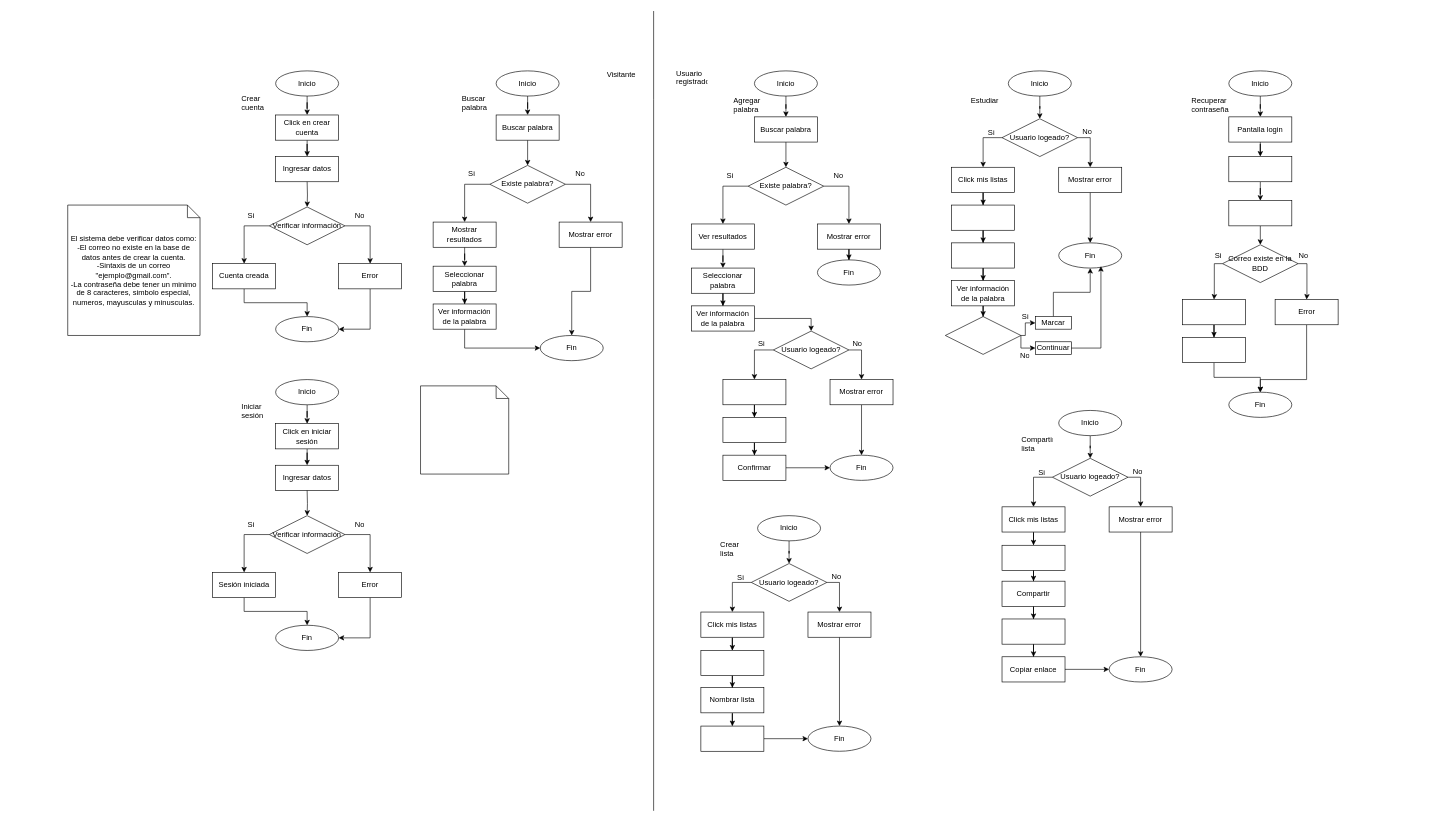
The diagram is 1434 pixels wide and 823 high, and some of its shapes have lost their labels. The centre of each missing label's shape, as x and y in pixels:
Abrir lista: the point at 1033,557
Cambiar contraseña: the point at 1214,350
Click a agregar a lista: the point at 754,392
Click crear lista: the point at 732,663
Click en olvide mi contraseña: the point at 1260,169
Enviar enlace: the point at 1214,312
Generar enlace: the point at 1033,631
Guardar lista: the point at 732,738
Información de la palabra: -Significado -IPA -Imágenes -Ejemplos -Sonido: the point at 464,429
Ingresar email: the point at 1260,213
Marcar como aprendida?: the point at 983,335
Selecciona lista: the point at 754,430
Seleccionar lista: the point at 983,217
Ver palabras: the point at 983,255
